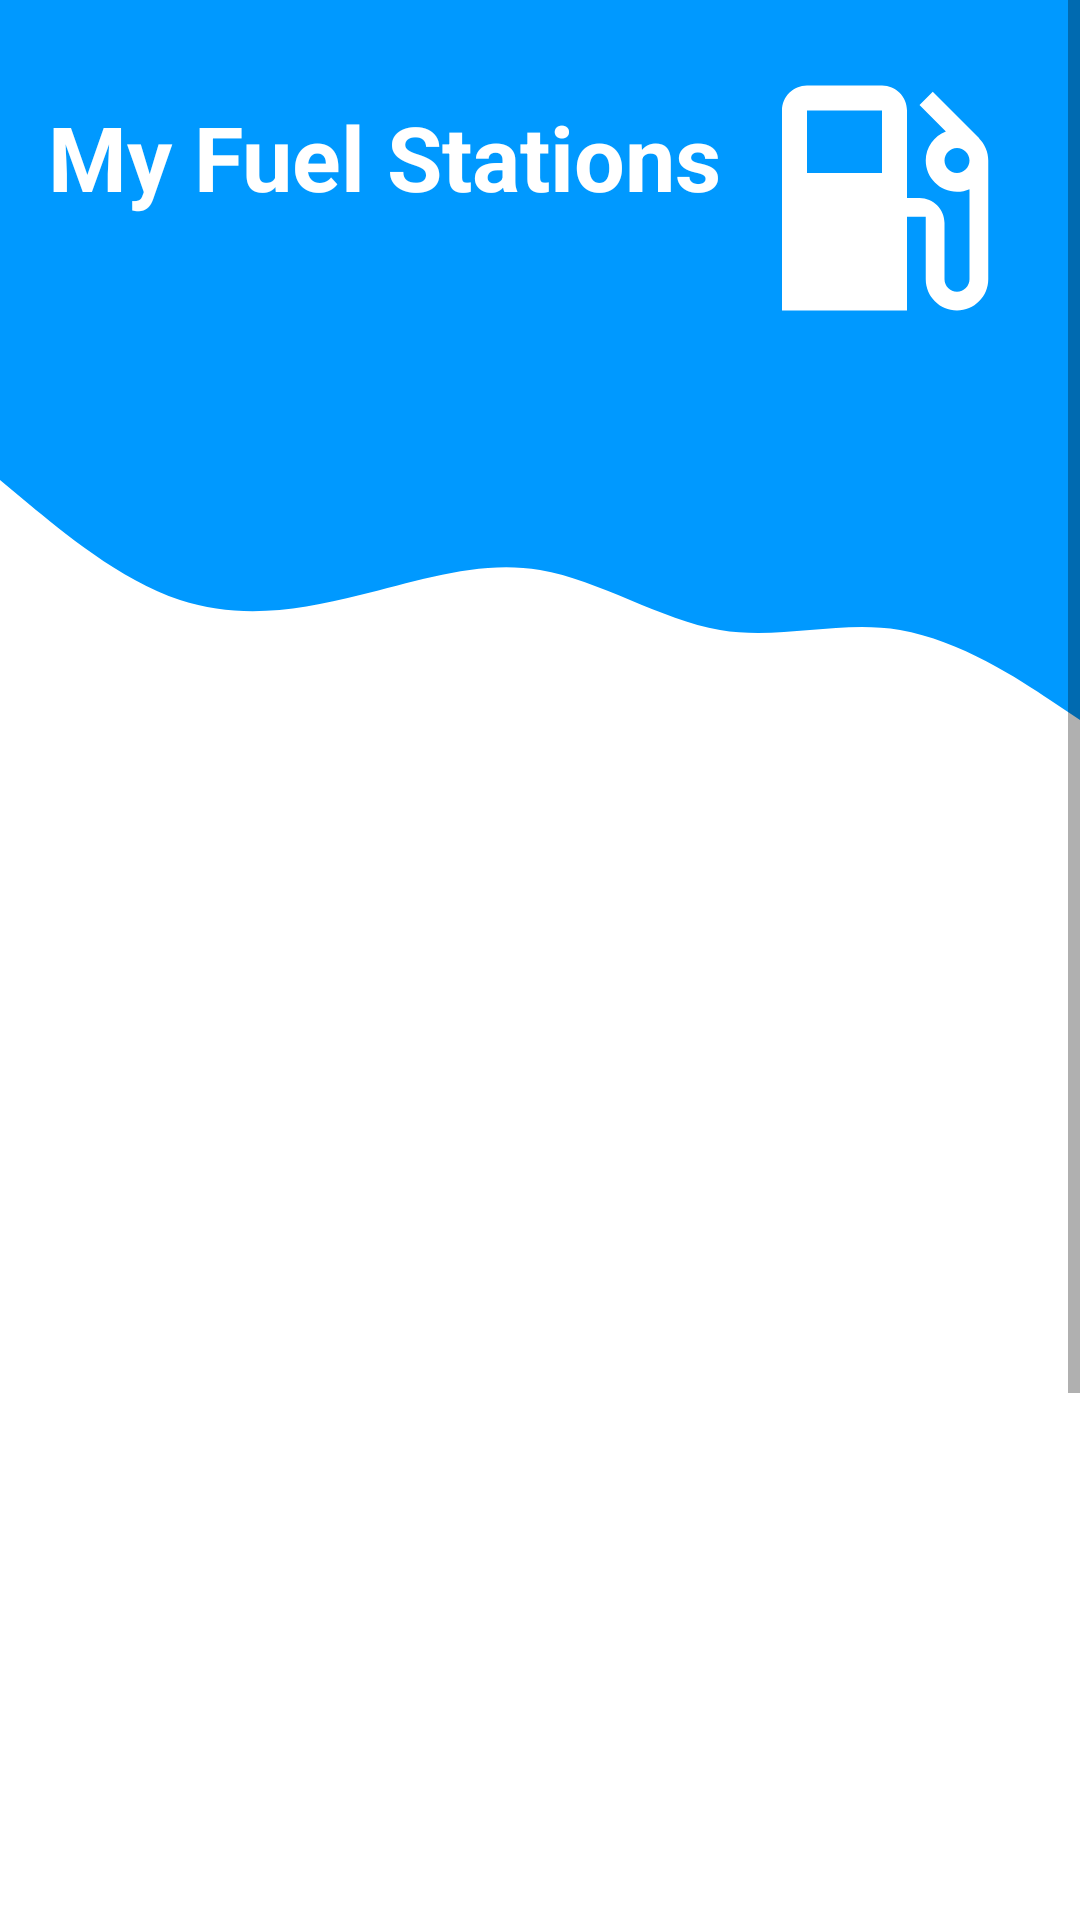

Icons on this 1080×1920 Android screen, each with its box as (x1, y1, x2, y2):
local gas station: (782, 85, 989, 311)
